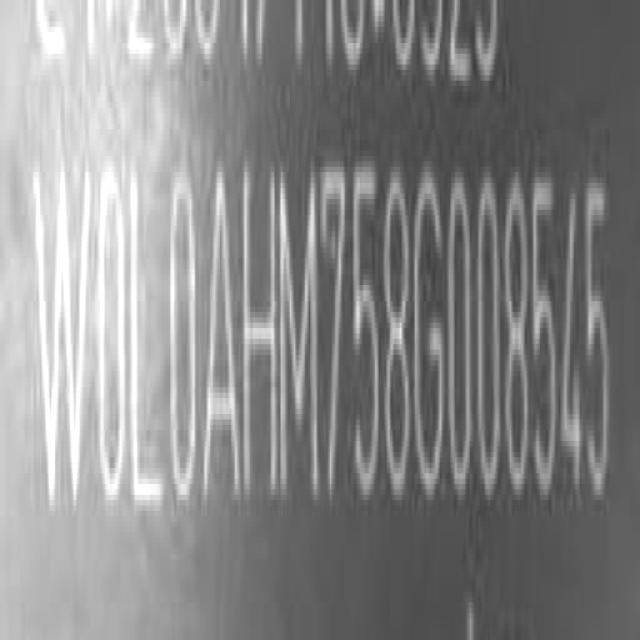0: (94, 160, 128, 521), (168, 151, 200, 513), (476, 174, 503, 507), (450, 173, 477, 505)
4: (560, 175, 582, 506)
5: (353, 161, 382, 514), (587, 176, 615, 507), (531, 169, 556, 507)
7: (321, 155, 348, 511)
8: (385, 168, 413, 509), (504, 171, 530, 506)
A: (204, 156, 241, 517)
G: (414, 166, 447, 509)
H: (242, 158, 280, 514)
L: (129, 160, 161, 522)
M: (279, 156, 318, 510)
W: (34, 162, 90, 530)
